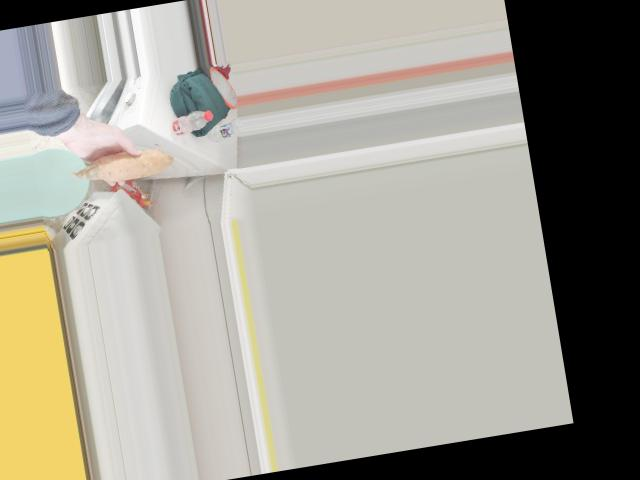sweet_potato: (84, 148, 161, 181)
